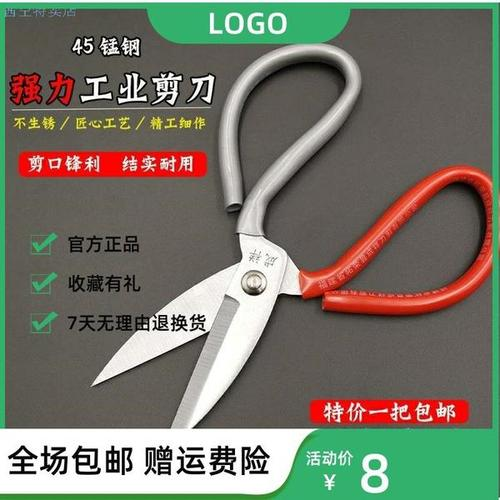scissor: (89, 42, 492, 429)
